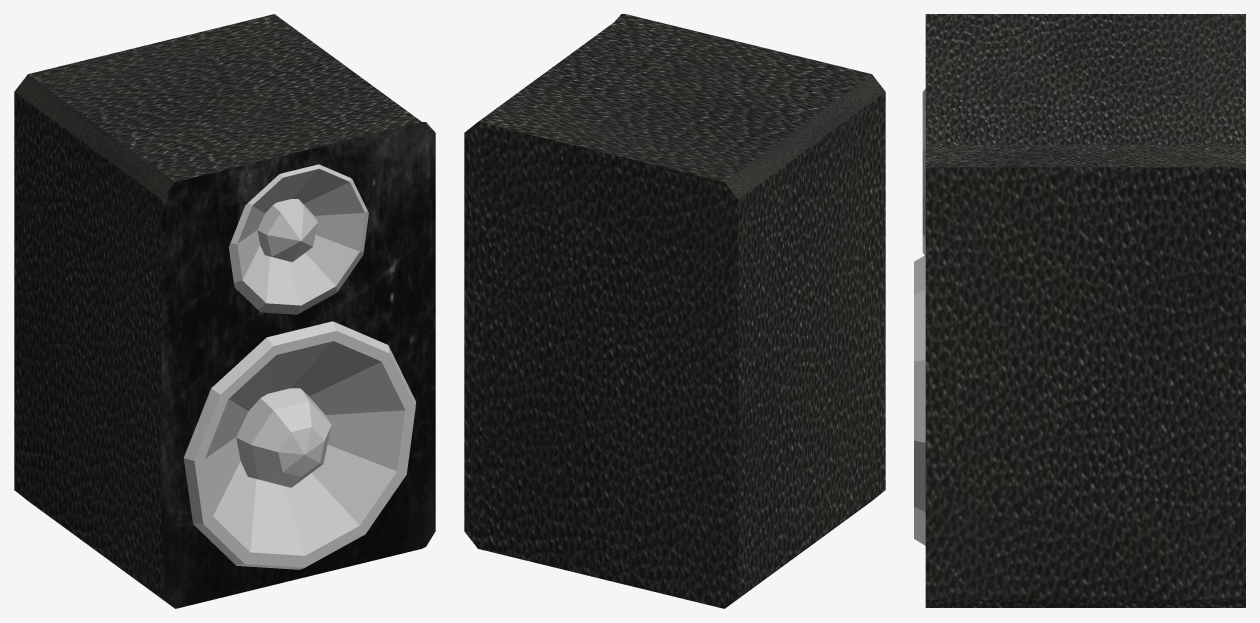
File: speaker.fbx
3 renders of one model, left to right at view 1: azimuth 30°, elevation 25°; view 2: azimuth 150°, elevation 25°; view 3: azimuth 270°, elevation 25°, orthographic. The views are drawn at different scales.
Visible parts, largest first — view 1: polySurface11; view 2: polySurface11; view 3: polySurface11.
Boxes of the visible parts, x1,y1,x2,y2 form: polySurface11: (14,14,435,608); polySurface11: (464,14,885,608); polySurface11: (914,14,1245,607).
Size of the model in its own units: 0.7964 by 1.19 by 0.7692.
